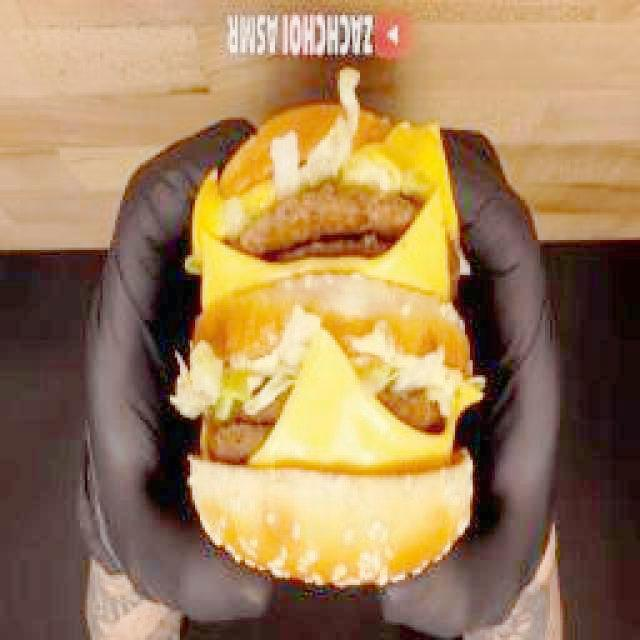burger: (179, 71, 486, 586)
